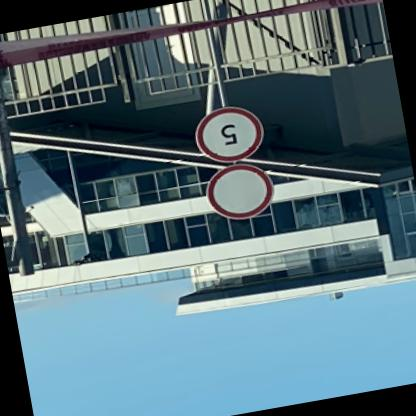speedlimit: (194, 103, 269, 168)
